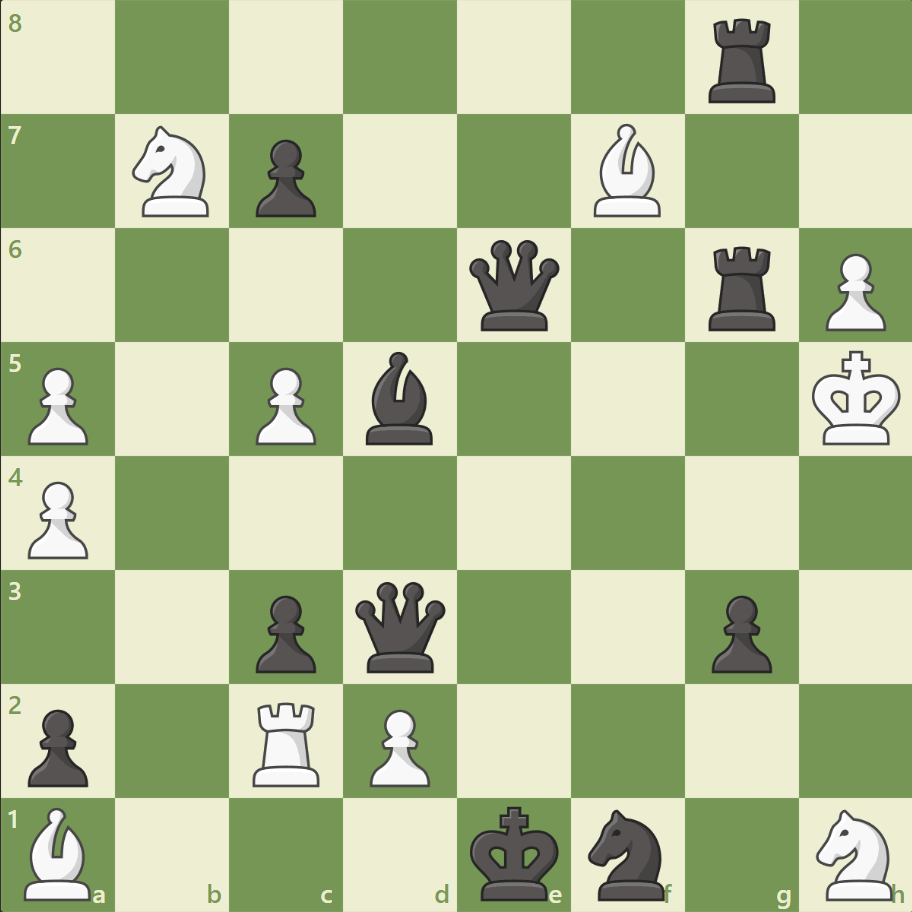B: (17, 801, 101, 904), (585, 120, 669, 222)
K: (806, 344, 906, 452)
N: (124, 121, 222, 223), (806, 802, 903, 904)
P: (20, 359, 95, 450), (247, 359, 322, 450), (20, 473, 95, 564), (815, 246, 889, 337), (361, 700, 435, 791)
R: (246, 693, 329, 790)
b: (358, 347, 442, 449)
k: (465, 798, 565, 906)
n: (579, 802, 676, 904)
p: (247, 132, 322, 223), (247, 586, 322, 677), (701, 586, 776, 677), (20, 700, 95, 791)
q: (351, 576, 450, 676), (464, 236, 563, 335)
r: (700, 12, 783, 109), (700, 239, 783, 336)
